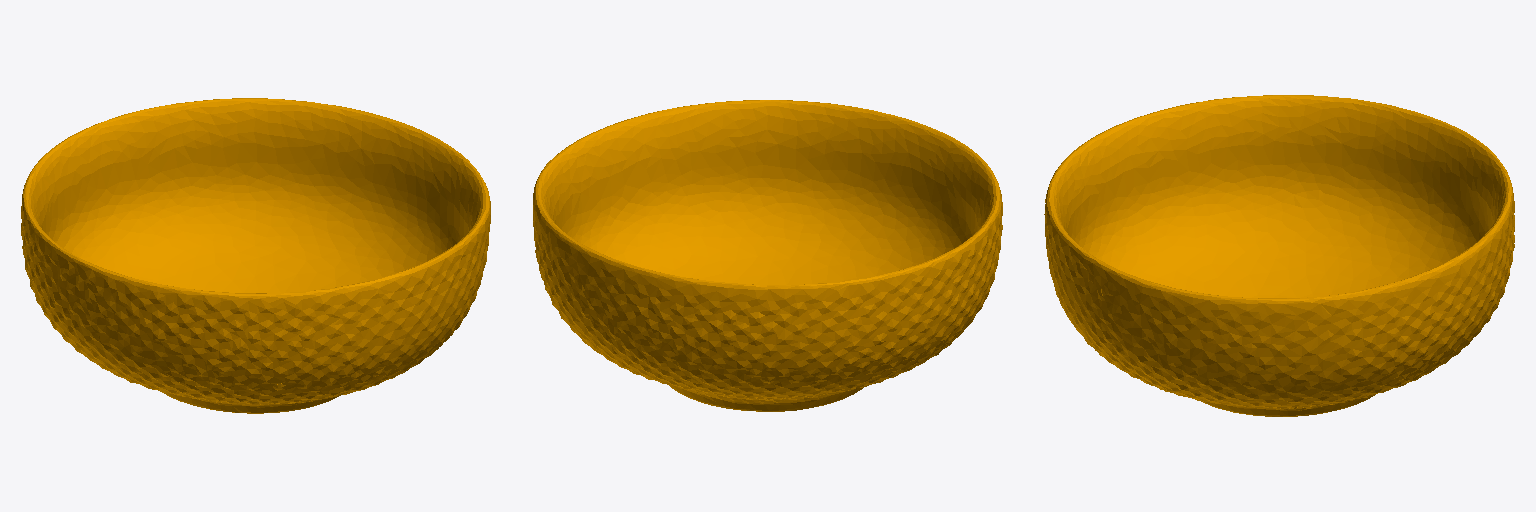
robot.urdf — white_bowl:
<?xml version="1.0"?>
<!-- GENERATED by tasks/libero/build_env/build_object_urdf.py. Do not hand edit.

     LIBERO object `white_bowl`, spawnable by the TRO-MP env.
     Role: graspable target object (envs/), one of the 22 LIBERO target assets.

     WHY a URDF when envs/white_bowl/ may also hold a USD: this env spawns objects
     only through `assets.object_urdf` (scene_utils.py:1929, which calls
     _convert_urdf_to_usd at :1964). The assets dataclass declares no USD field,
     so a ready-made USD cannot be handed to this code path.

     Mesh coordinates are PRESERVED, not re-centred: 11 of 22 LIBERO envs have
     their mesh origin at the object's base, and `goal_traj` tracks that origin.
     Re-centring would offset the object from its own trajectory every frame.

     Mass: density 800.0 kg/m^3 x mesh volume 2.786350e-05 m^3
     Inertia: solid-box approximation about the COM at that mass, NOT the true
     mesh inertia tensor. Adequate for a graspable tabletop object; revisit if
     spin dynamics matter.

     Collision: the full mesh, decomposed by Isaac's URDF importer. The convex
     decomposition authored in the DexVerse USD is NOT reproduced here.
-->
<robot name="white_bowl">
  <link name="white_bowl">
    <inertial>
      <origin xyz="-0.000144 0.000068 0.016192" rpy="0 0 0"/>
      <mass value="0.022291"/>
      <inertia ixx="1.516976e-05" ixy="0" ixz="0" iyy="1.570604e-05" iyz="0" izz="2.623014e-05"/>
    </inertial>
    <visual>
      <origin xyz="0 0 0" rpy="0 0 0"/>
      <geometry><mesh filename="white_bowl.obj" scale="1 1 1"/></geometry>
    </visual>
    <collision>
      <origin xyz="0 0 0" rpy="0 0 0"/>
      <geometry><mesh filename="white_bowl.obj" scale="1 1 1"/></geometry>
    </collision>
  </link>
</robot>

--- What the picture shows (computed from the rendered views, not written in the file) ---
Views: 3 orthographic renders of the robot side by side, from view 1: azimuth 30°, elevation 25°; view 2: azimuth 150°, elevation 25°; view 3: azimuth 270°, elevation 25°.
Model white_bowl with 1 links and 0 joints (none), rooted at white_bowl, posed all joints at 0.
Visible links, largest first — view 1: white_bowl; view 2: white_bowl; view 3: white_bowl.
Link boxes in pixels (x1,y1,x2,y2): white_bowl: (21, 98, 490, 413); white_bowl: (533, 100, 1002, 411); white_bowl: (1044, 95, 1514, 416).
Size in the robot's own frame: 0.0849 by 0.0832 by 0.0354 metres.
1 mesh visuals loaded from 1 distinct referenced files (1 OBJ).
